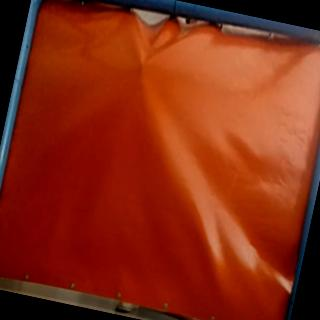Hit-hRxx: (134, 58, 148, 72)
